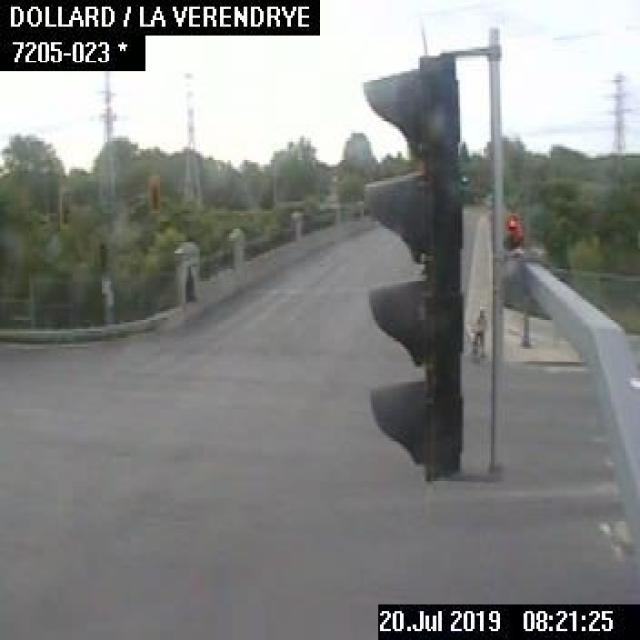pedestrian: (469, 304, 485, 358)
